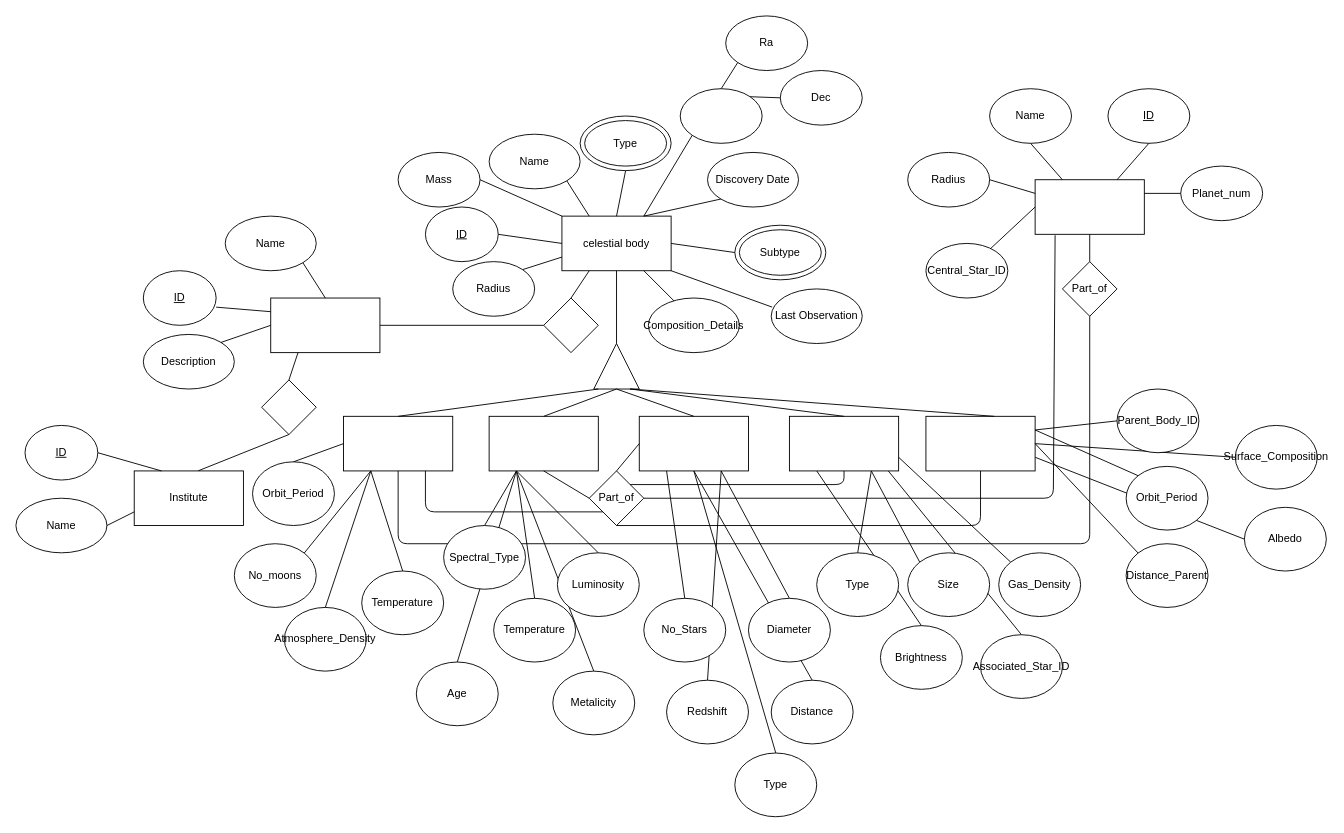
Image size: 1344x833. Some labels were removed from this diagram. Here are the shapes that lost their labels. From the top down, the centre of each, then its label:
(720,115): Position
(1089,206): Planetary_System
(325,325): Discoverer
(570,325): Discovered_by
(616,366): Is a
(288,407): Works_on
(398,443): Planet
(543,443): Star
(693,443): Galaxy
(844,443): Nebula
(980,443): Satellite
